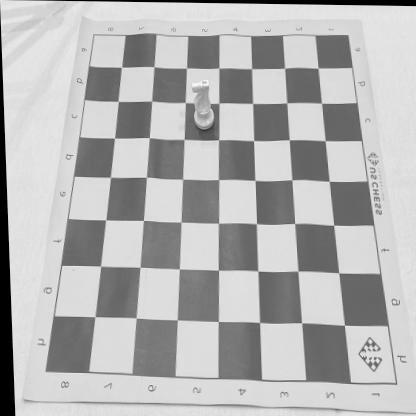white-knight: (190, 78, 214, 130)
